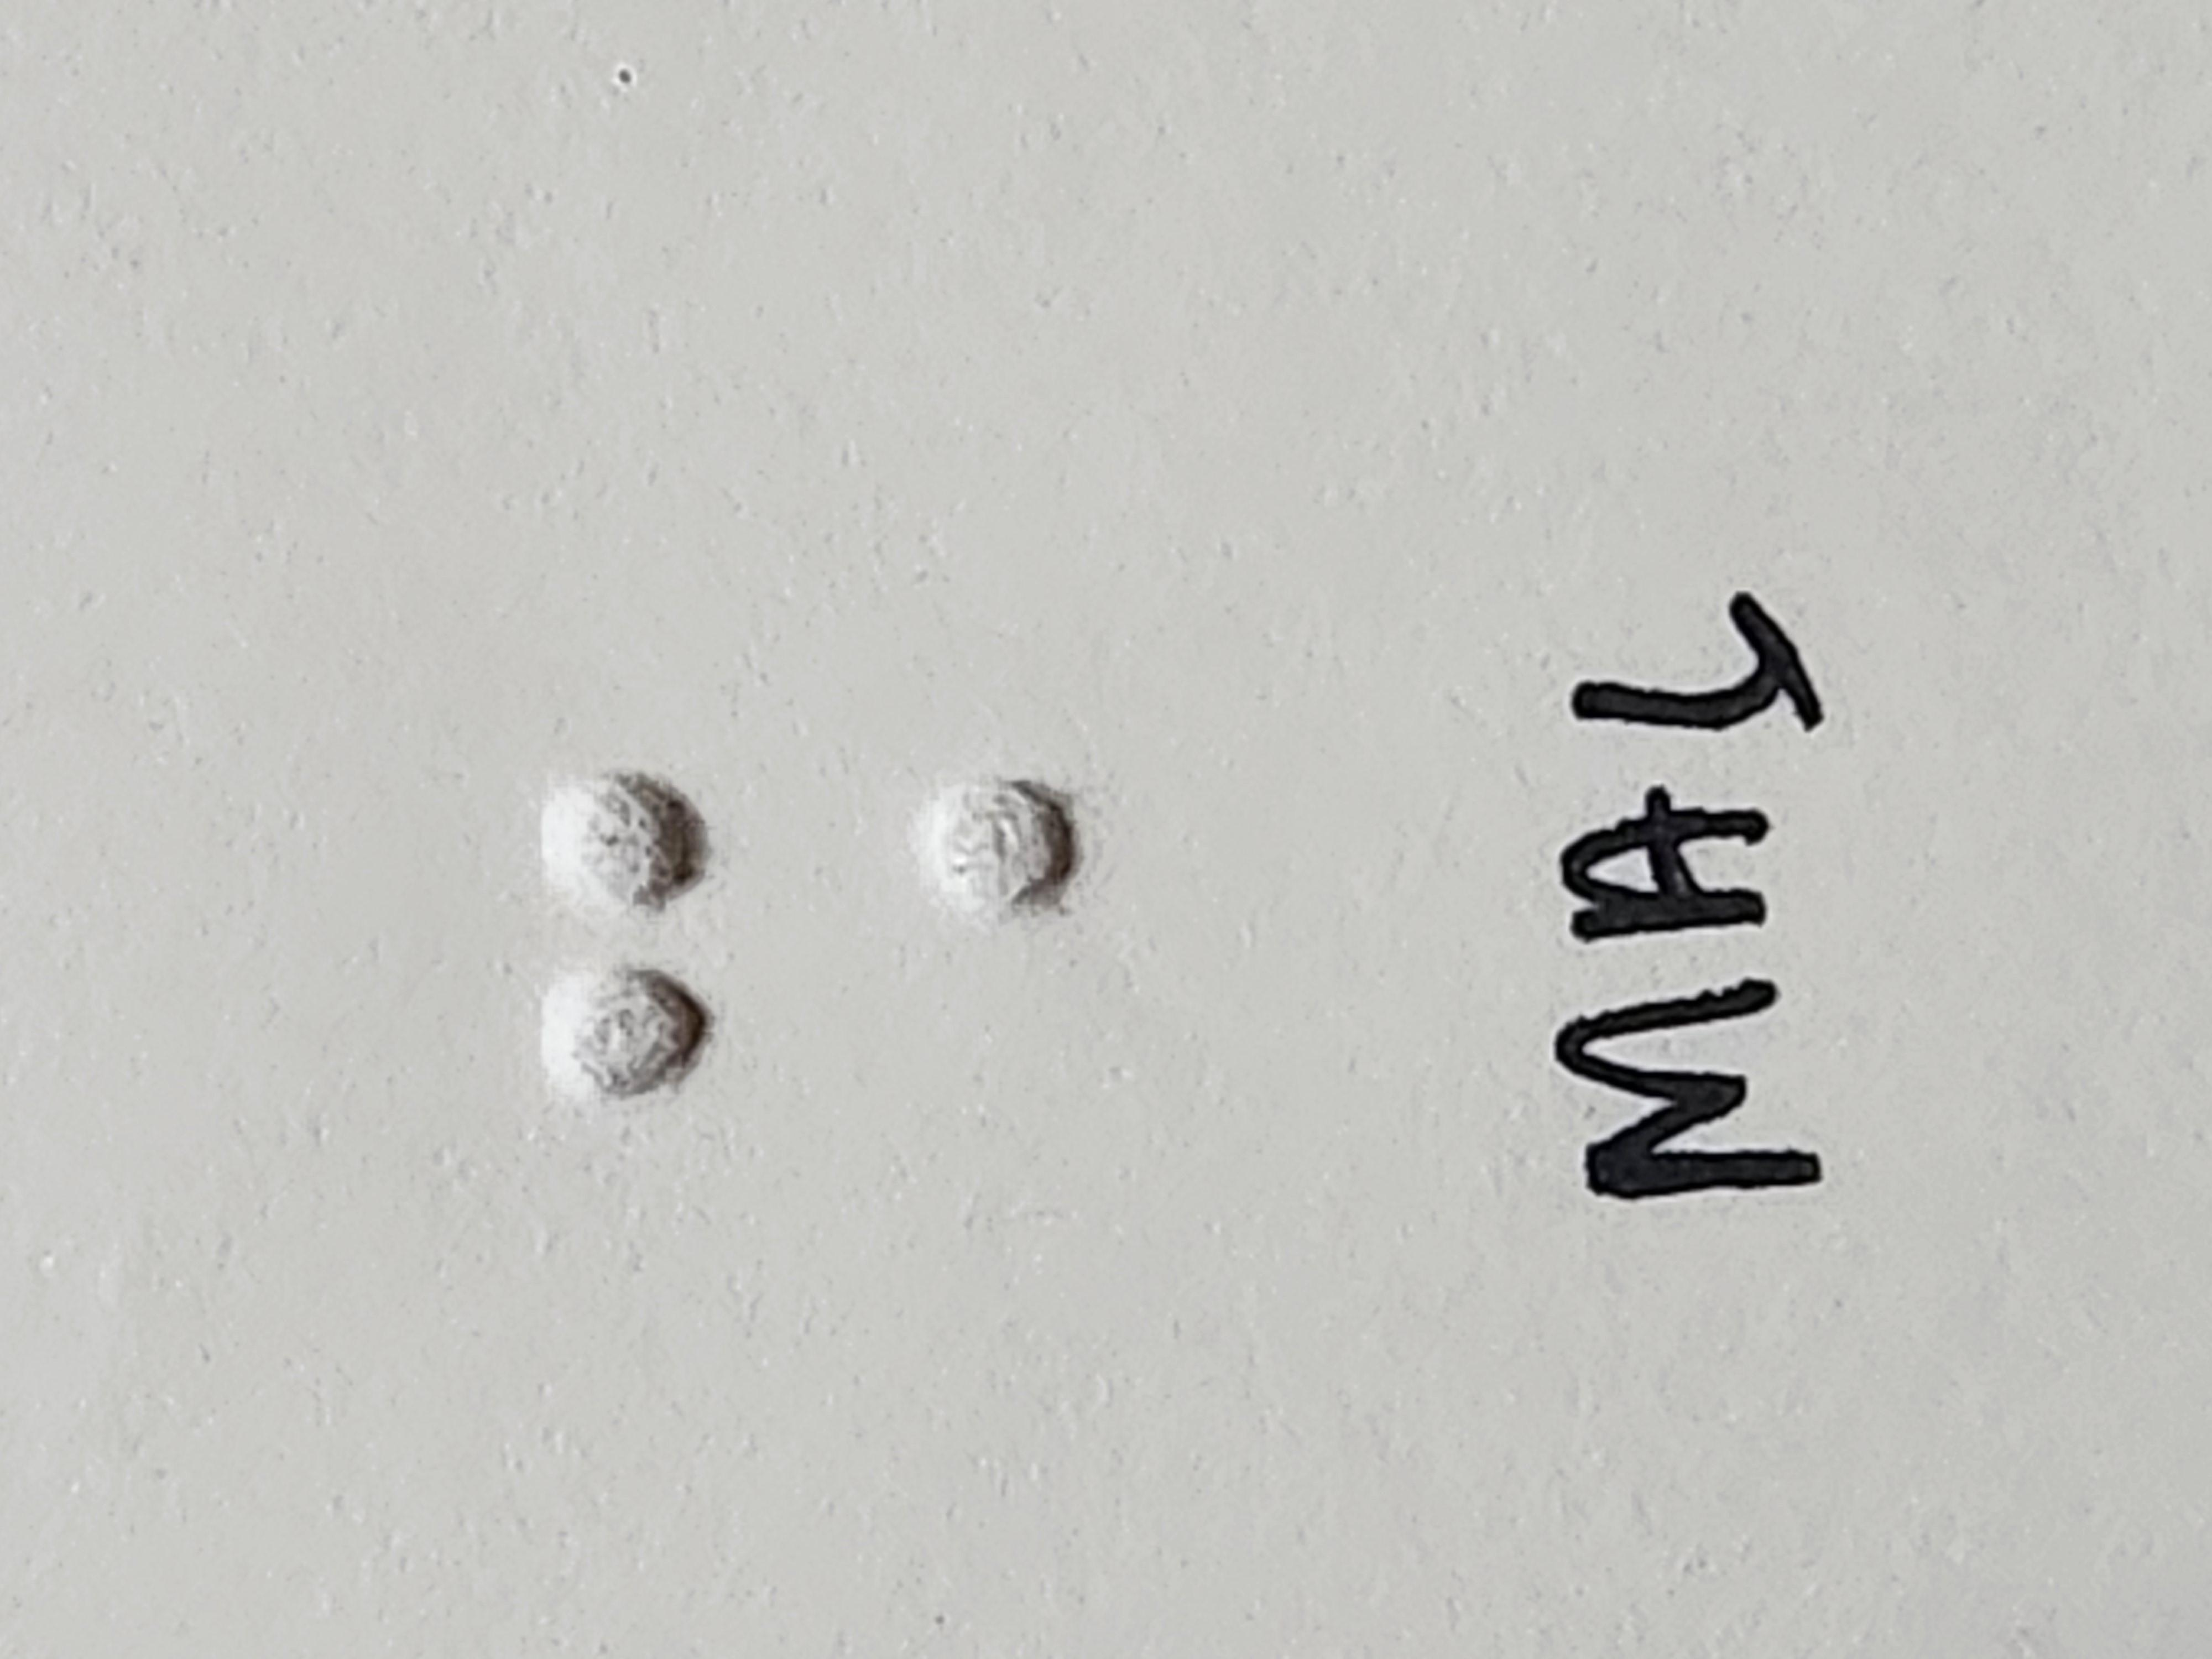one_cell_part_word_mag: (732, 403, 1193, 812)
